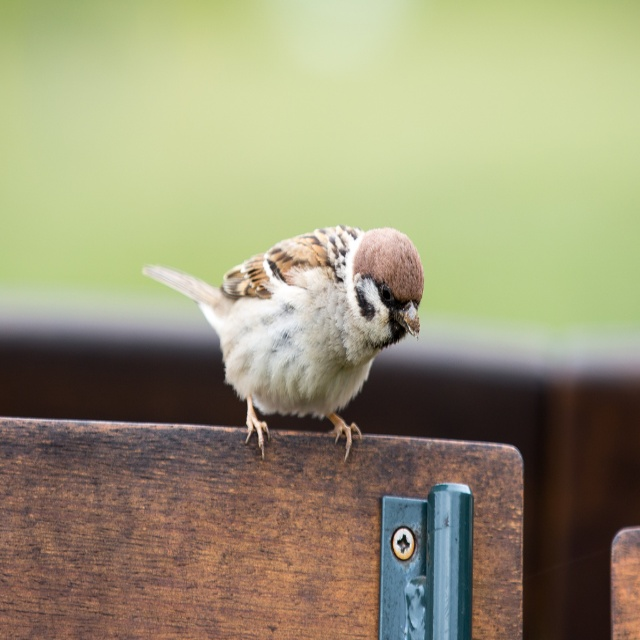Sparrow: (137, 220, 426, 466)
